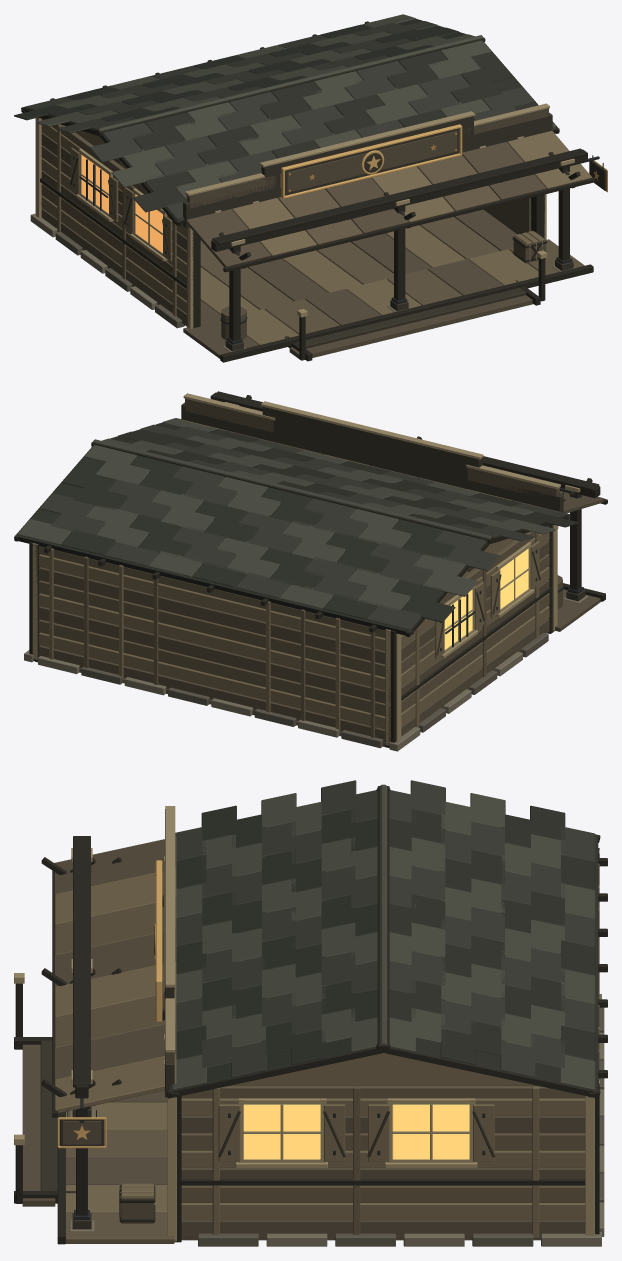
The model's file is sheriff_office.gltf.
The picture shows the model from 3 angles, top to bottom: view 1: azimuth 30°, elevation 25°; view 2: azimuth 150°, elevation 25°; view 3: azimuth 270°, elevation 25°; orthographic projection. The views are drawn at different scales.
Parts seen in each view (by area): view 1: sheriff_office_legno, sheriff_office_legno_chiaro, sheriff_office_trave, sheriff_office_tetto_chiaro, sheriff_office_tetto_scuro, sheriff_office_tetto, sheriff_office_legno_medio, sheriff_office_legno_scuro, sheriff_office_finitura, sheriff_office_oro, sheriff_office_vetro_caldo, sheriff_office_pietra (+2 smaller); view 2: sheriff_office_tetto_scuro, sheriff_office_tetto_chiaro, sheriff_office_tetto, sheriff_office_legno_chiaro, sheriff_office_legno, sheriff_office_legno_medio, sheriff_office_legno_scuro, sheriff_office_trave, sheriff_office_finitura, sheriff_office_pietra, sheriff_office_pietra_scura, sheriff_office_vetro_caldo (+1 smaller); view 3: sheriff_office_tetto_scuro, sheriff_office_tetto_chiaro, sheriff_office_legno_chiaro, sheriff_office_tetto, sheriff_office_legno, sheriff_office_legno_medio, sheriff_office_trave, sheriff_office_finitura, sheriff_office_vetro_caldo, sheriff_office_legno_scuro, sheriff_office_pietra, sheriff_office_pietra_scura (+1 smaller).
Part boxes in pixels (box(x1,y1,x2,y2)): sheriff_office_legno: box(41, 108, 548, 360); sheriff_office_legno_chiaro: box(41, 124, 592, 345); sheriff_office_trave: box(21, 18, 595, 362); sheriff_office_tetto_chiaro: box(35, 14, 556, 199); sheriff_office_tetto_scuro: box(14, 19, 557, 224); sheriff_office_tetto: box(24, 21, 534, 219); sheriff_office_legno_medio: box(41, 119, 584, 334); sheriff_office_legno_scuro: box(70, 112, 606, 351); sheriff_office_finitura: box(36, 103, 574, 328); sheriff_office_oro: box(281, 124, 607, 198); sheriff_office_vetro_caldo: box(81, 155, 162, 252); sheriff_office_pietra: box(30, 213, 574, 352); sheriff_office_tetto_scuro: box(16, 422, 578, 635); sheriff_office_tetto_chiaro: box(17, 418, 555, 610); sheriff_office_tetto: box(39, 424, 567, 629); sheriff_office_legno_chiaro: box(39, 419, 549, 736); sheriff_office_legno: box(34, 398, 604, 748); sheriff_office_legno_medio: box(39, 442, 549, 737); sheriff_office_legno_scuro: box(181, 402, 585, 655); sheriff_office_trave: box(14, 391, 607, 747); sheriff_office_finitura: box(32, 393, 580, 745); sheriff_office_pietra: box(24, 595, 588, 751); sheriff_office_pietra_scura: box(81, 633, 548, 748); sheriff_office_vetro_caldo: box(444, 548, 528, 649); sheriff_office_tetto_scuro: box(168, 805, 598, 1091); sheriff_office_tetto_chiaro: box(171, 784, 595, 1089); sheriff_office_legno_chiaro: box(55, 868, 599, 1238); sheriff_office_tetto: box(175, 780, 595, 1077); sheriff_office_legno: box(22, 809, 585, 1240); sheriff_office_legno_medio: box(55, 863, 599, 1243); sheriff_office_trave: box(14, 786, 607, 1244); sheriff_office_finitura: box(14, 806, 599, 1241); sheriff_office_vetro_caldo: box(243, 1104, 469, 1159); sheriff_office_legno_scuro: box(40, 845, 494, 1229); sheriff_office_pietra: box(69, 994, 604, 1246); sheriff_office_pietra_scura: box(198, 1007, 604, 1246).
Size of the model in its own units: 10.98 by 3.96 by 9.95.
